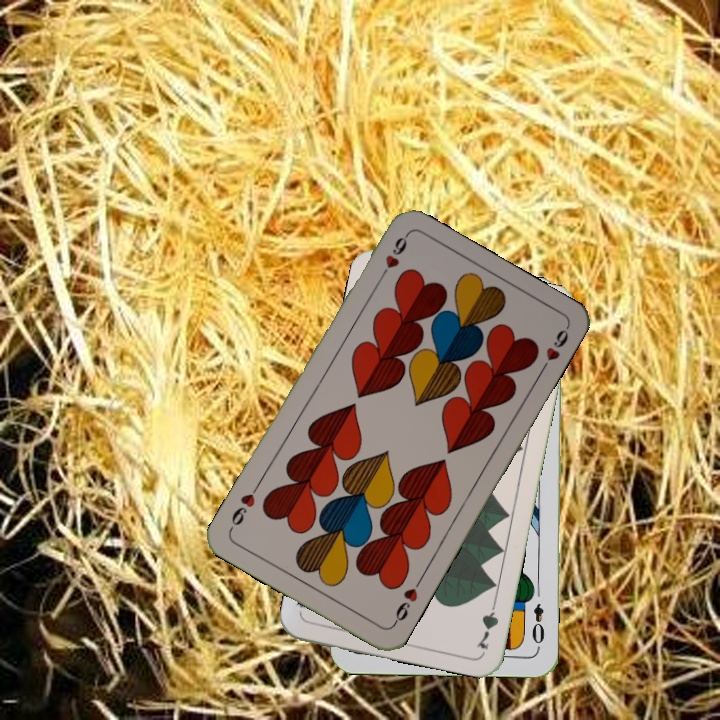EO: (528, 599, 547, 651)
G7: (473, 594, 501, 652)
H9: (388, 575, 425, 629), (374, 231, 411, 284)
